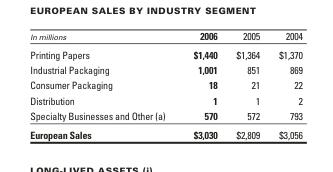table: (29, 29, 302, 140)
table column: (29, 29, 178, 140), (178, 29, 226, 140), (226, 29, 268, 140), (268, 29, 302, 140)
table column header: (29, 29, 302, 44)
table row: (29, 44, 302, 62), (29, 107, 302, 124), (29, 124, 302, 140), (29, 29, 302, 44), (29, 62, 302, 77), (29, 77, 302, 92), (29, 92, 302, 107)
